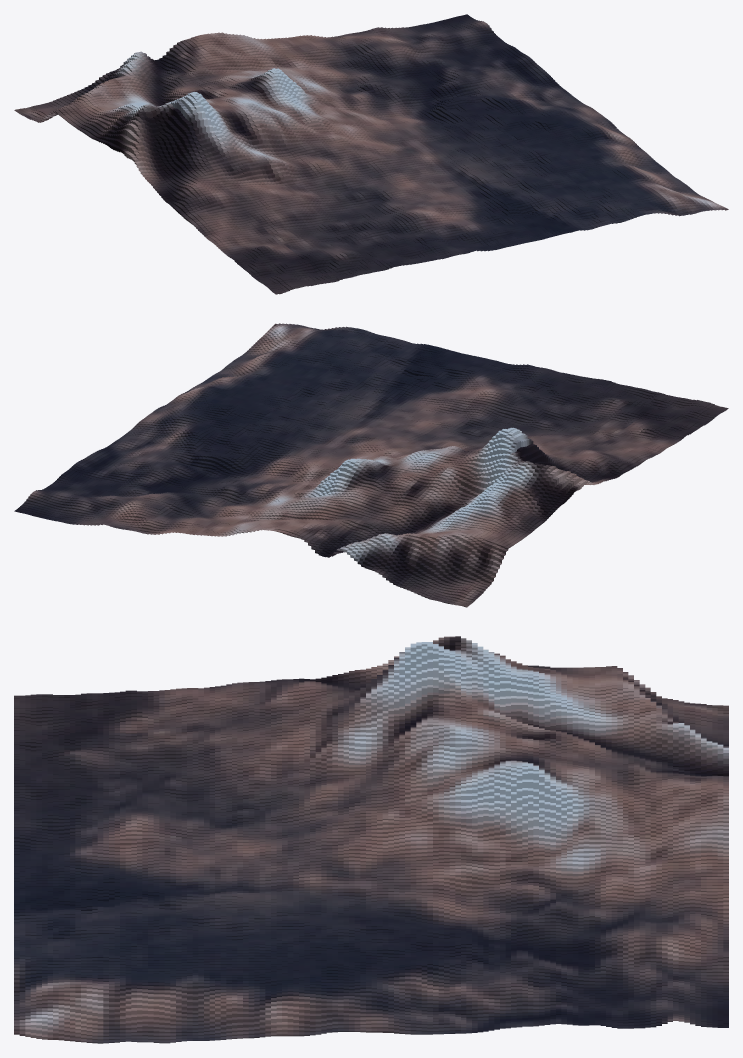
The model's file is chunk-16.glb.
The picture shows the model from 3 angles, top to bottom: view 1: azimuth 30°, elevation 25°; view 2: azimuth 150°, elevation 25°; view 3: azimuth 270°, elevation 25°; orthographic projection. The views are drawn at different scales.
Parts seen in each view (by area): view 1: Mesh_0.032; view 2: Mesh_0.032; view 3: Mesh_0.032.
Boxes of the visible parts, box(x1,y1,x2,y2) form: Mesh_0.032: box(14, 14, 728, 294); Mesh_0.032: box(14, 323, 728, 607); Mesh_0.032: box(14, 636, 728, 1043).
Bounding box in the file's own units: 32000 × 7128 × 32000.
